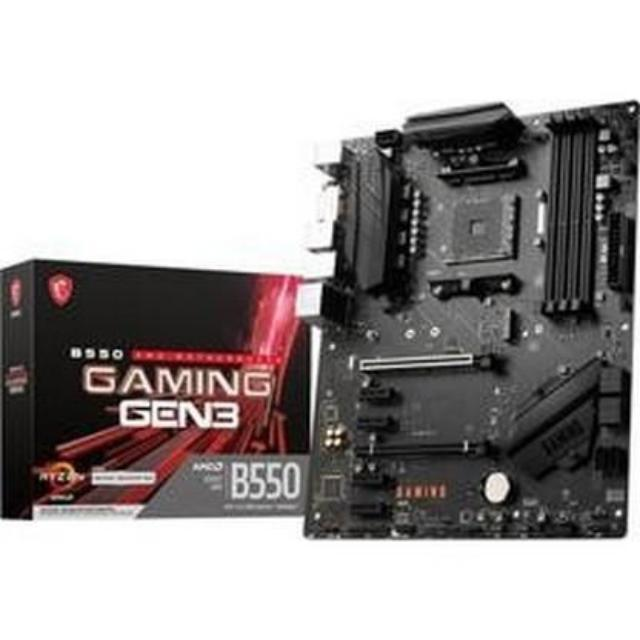Mainboard: (289, 91, 640, 551)
